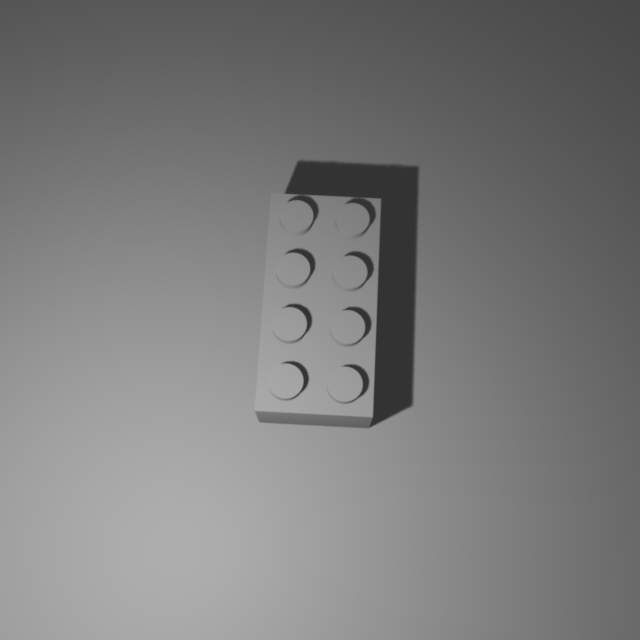lego_2x4: (254, 189, 382, 428)
